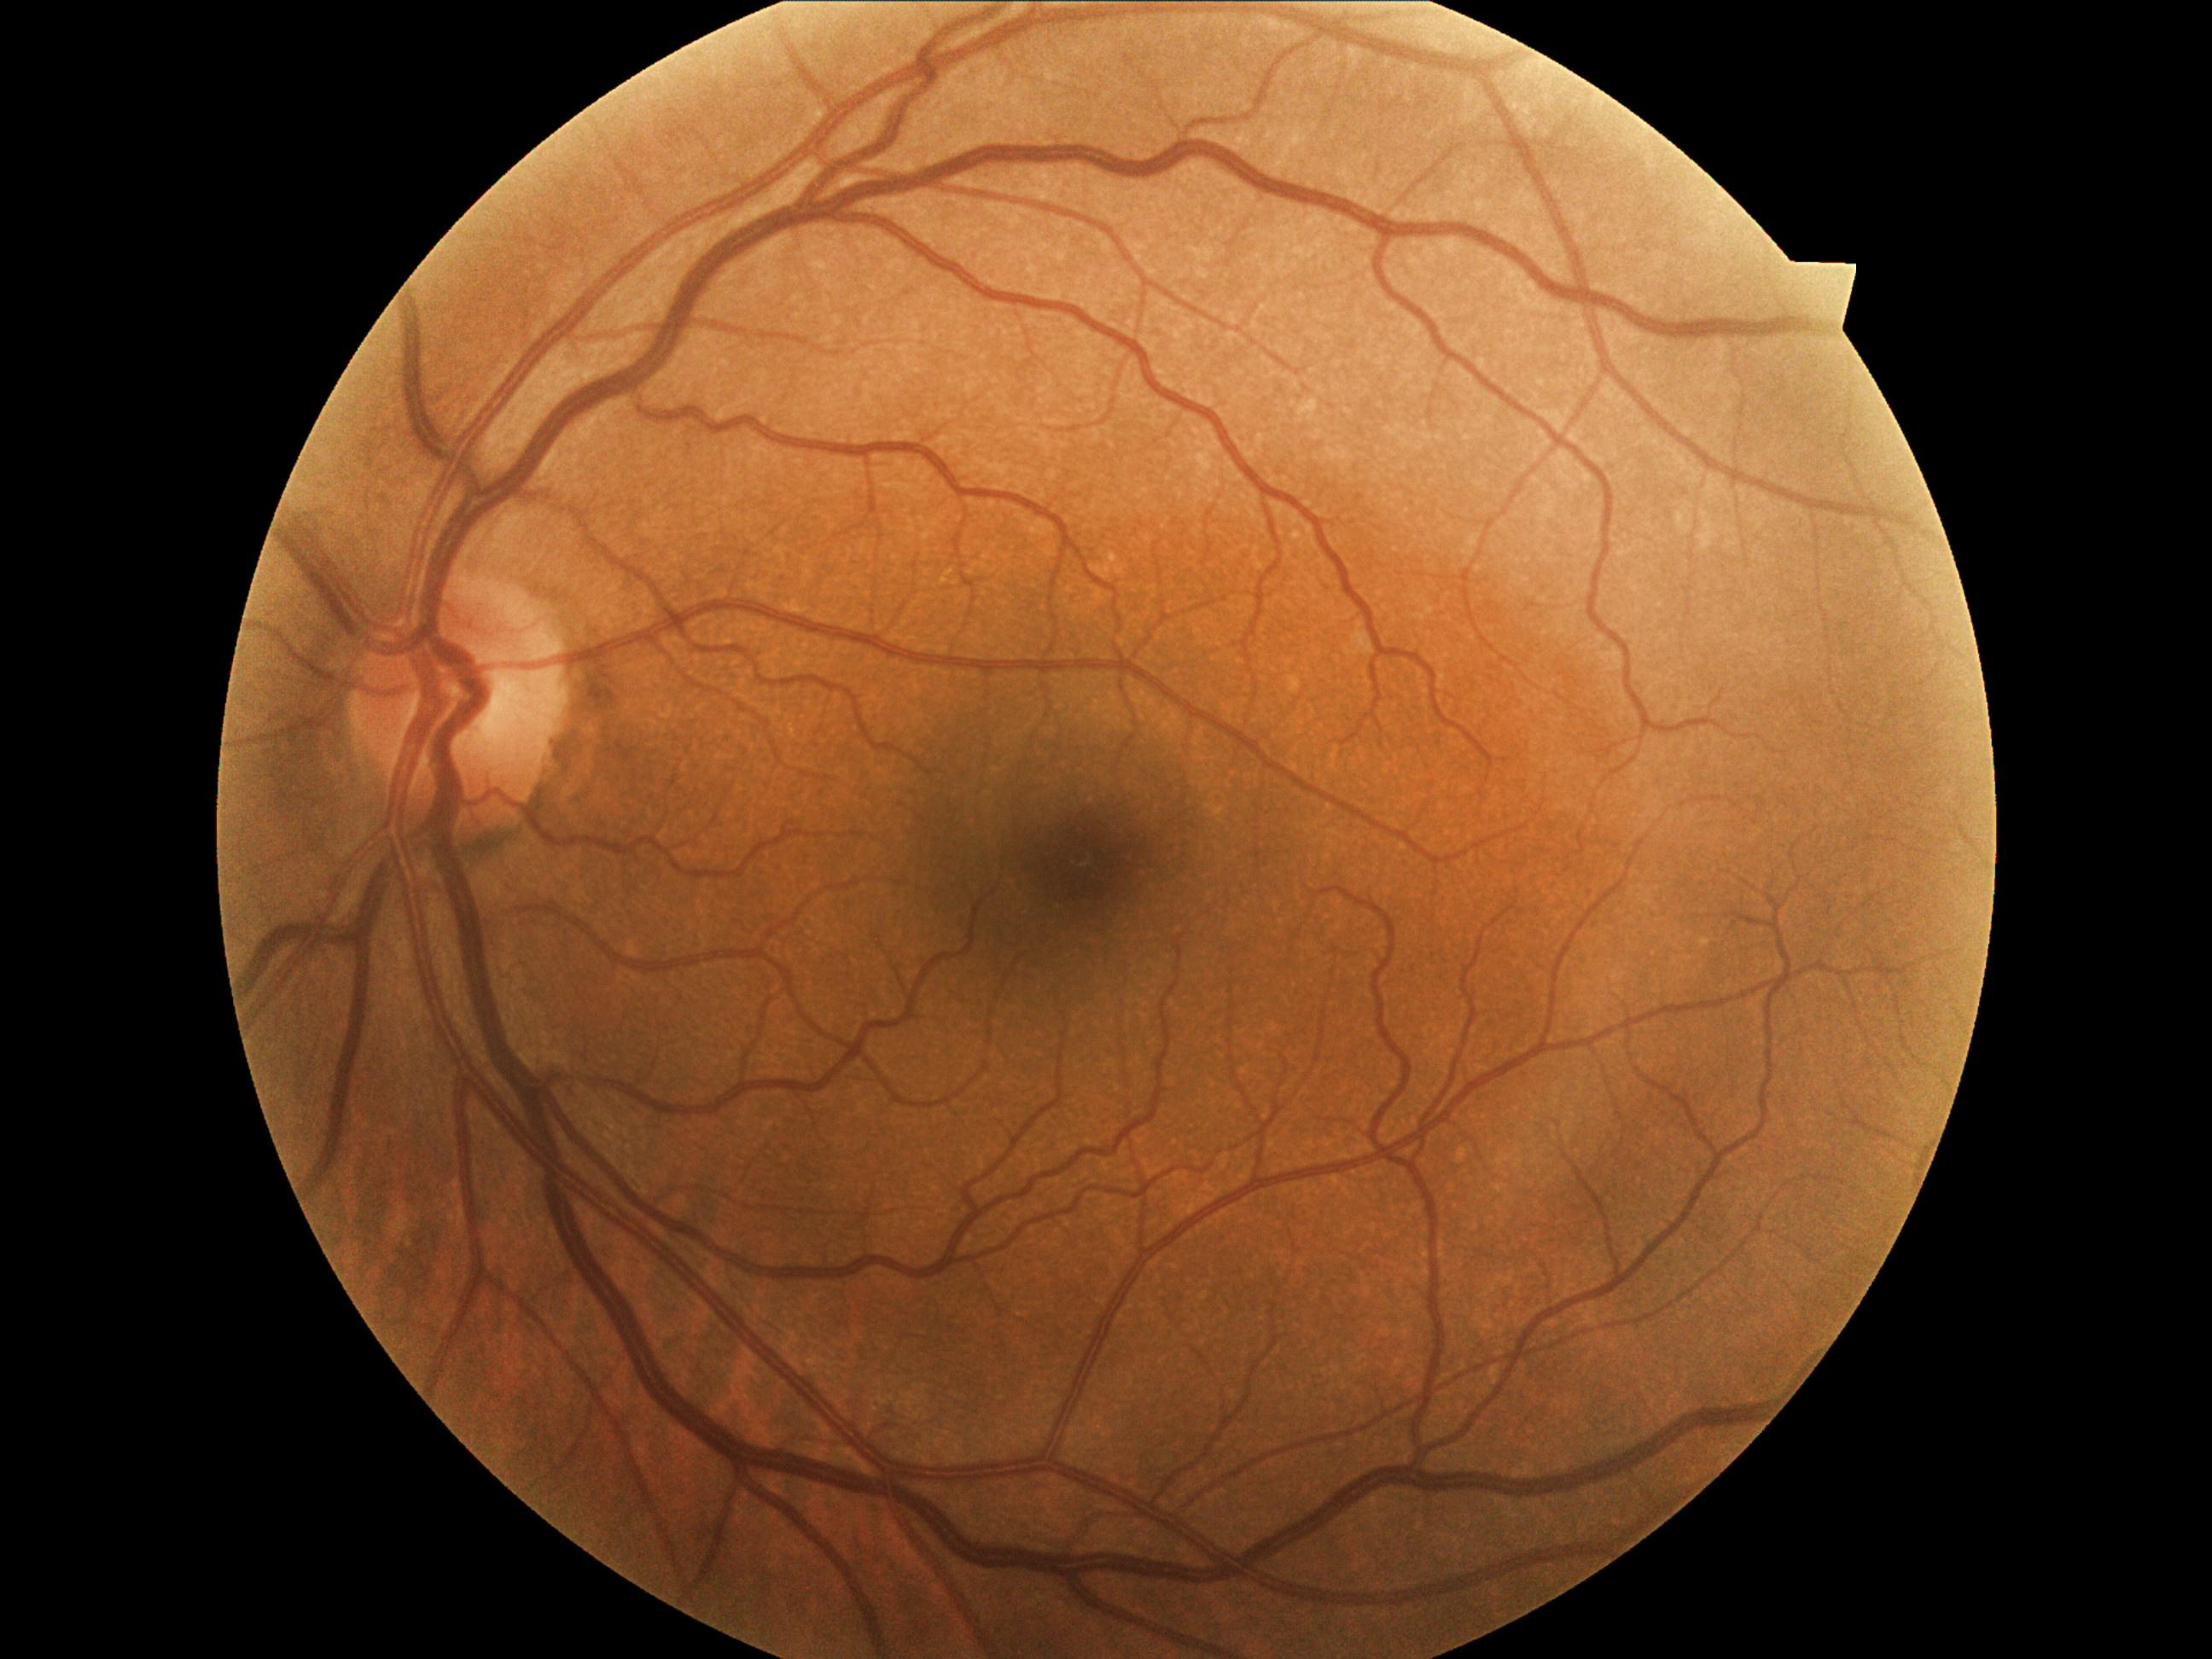Optic-nerve: (334, 579, 589, 857)
macula: (873, 674, 1277, 1061)
notch: (1789, 240, 1885, 331)
